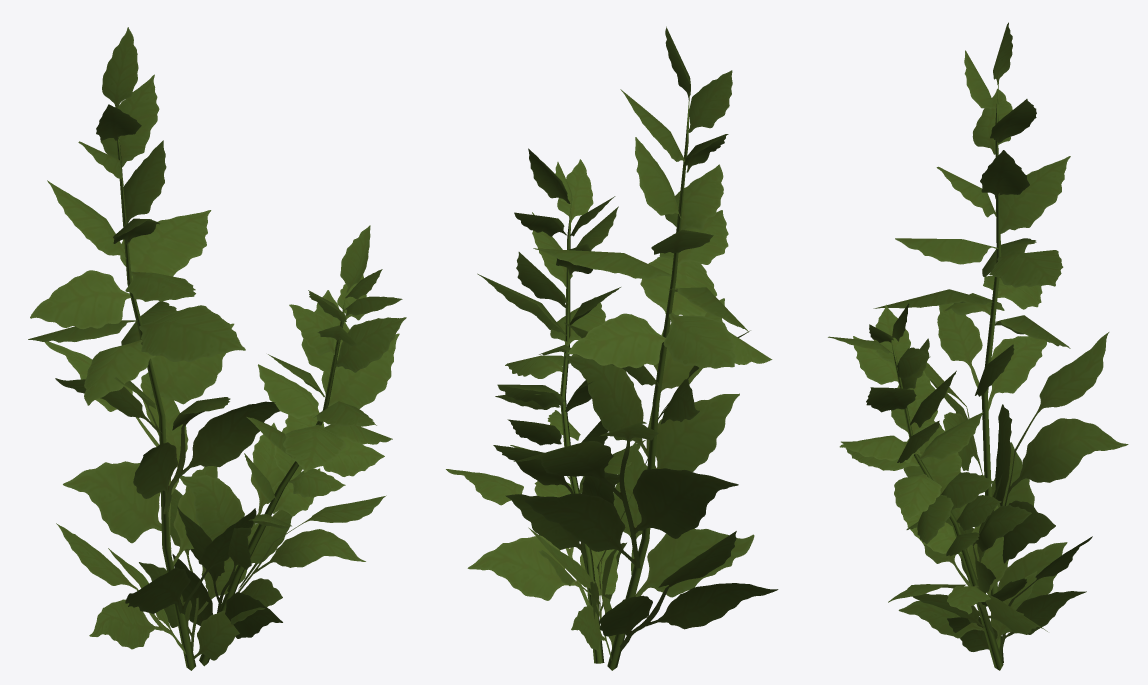
File: MSH_fwOF_ForestPlant_04.fbx
3 views of the same model, side by side, from view 1: azimuth 30°, elevation 25°; view 2: azimuth 150°, elevation 25°; view 3: azimuth 270°, elevation 25° (orthographic). The views are drawn at different scales.
Visible parts, largest first — view 1: MSH_fwOF_ForestPlant_04; view 2: MSH_fwOF_ForestPlant_04; view 3: MSH_fwOF_ForestPlant_04.
Boxes of the visible parts, x1,y1,x2,y2 form: MSH_fwOF_ForestPlant_04: [28, 27, 406, 670]; MSH_fwOF_ForestPlant_04: [446, 26, 778, 670]; MSH_fwOF_ForestPlant_04: [828, 22, 1128, 670].
Bounding box in the file's own units: 0.4066 × 0.7463 × 0.3431.
